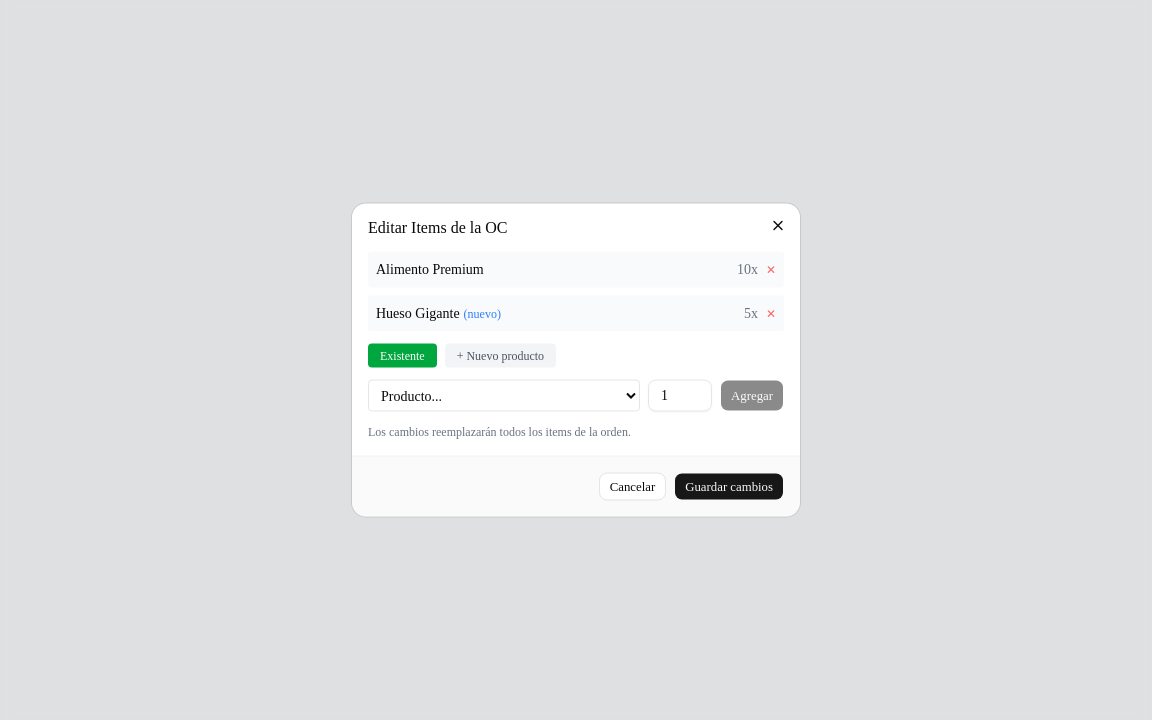
Test case: EditOrderItemsDialog › EOI-04: validación antes de guardar › botón Guardar cambios está deshabilitado si no hay items
This screenshot has width=1152, height=720.
Eliminar items uno por uno (re-query tras cada click por re-render)
Click the button "✕" in the row of "10" at x=771, y=270, box [766, 262, 776, 278]
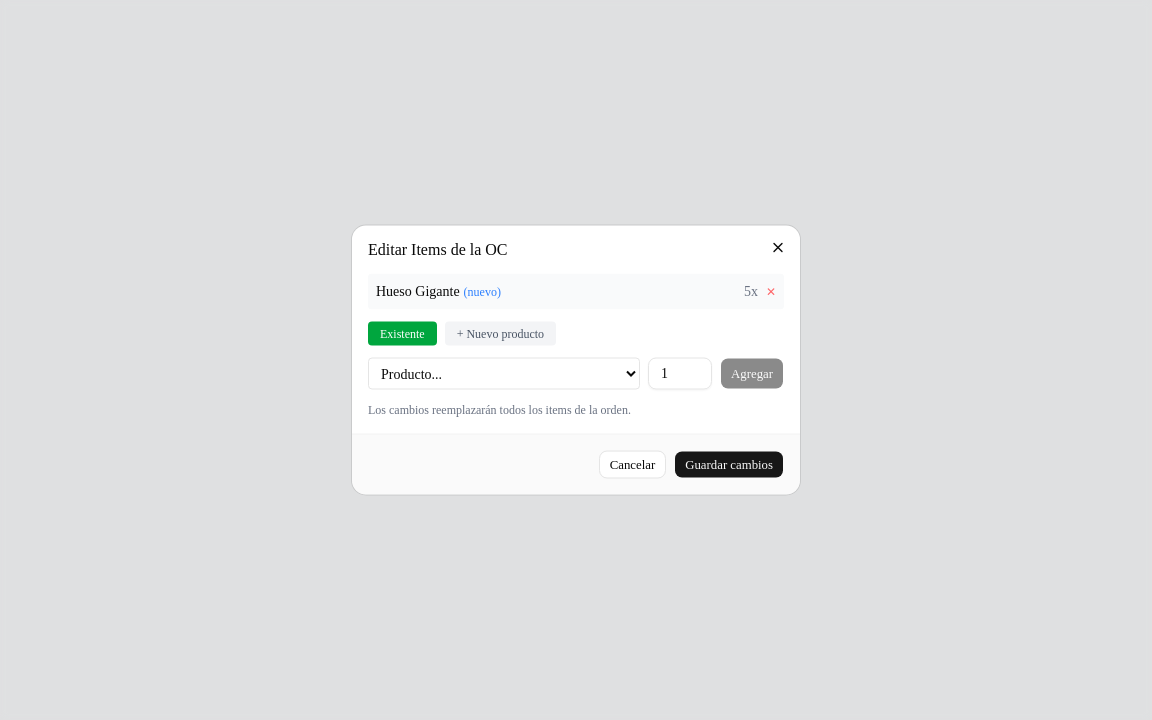
Click the button "✕" at x=771, y=292, box [766, 284, 776, 300]
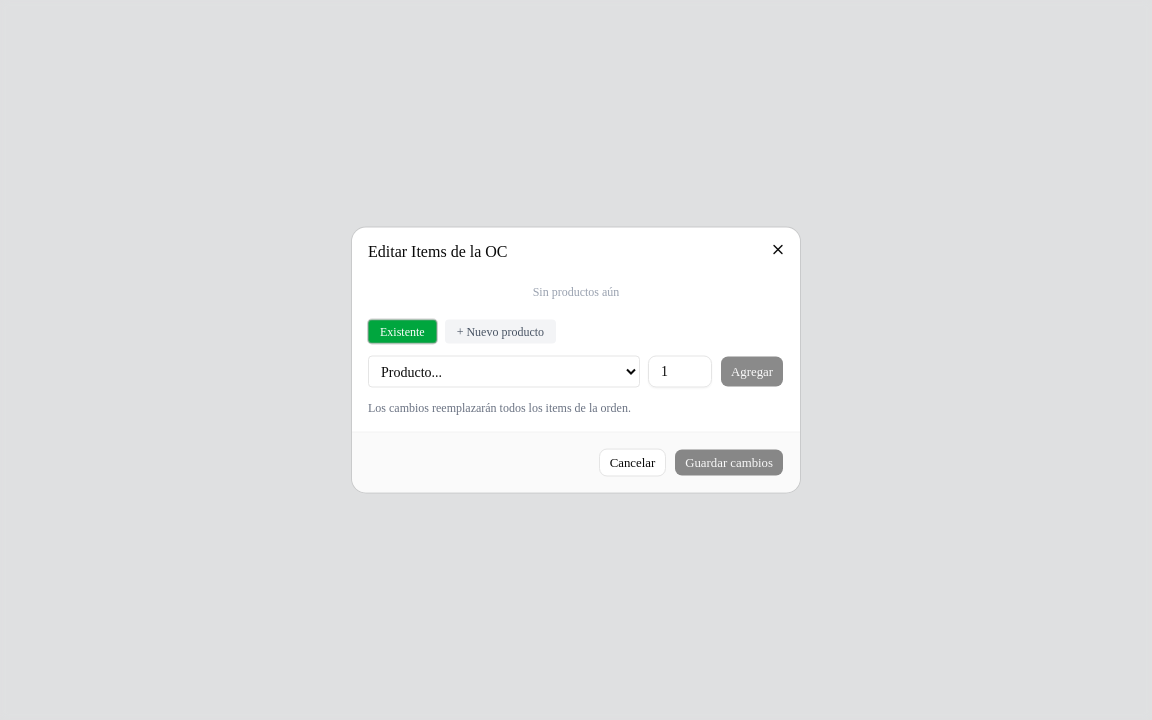
Expected: the button "Guardar cambios" is disabled, [674, 448, 784, 476]
